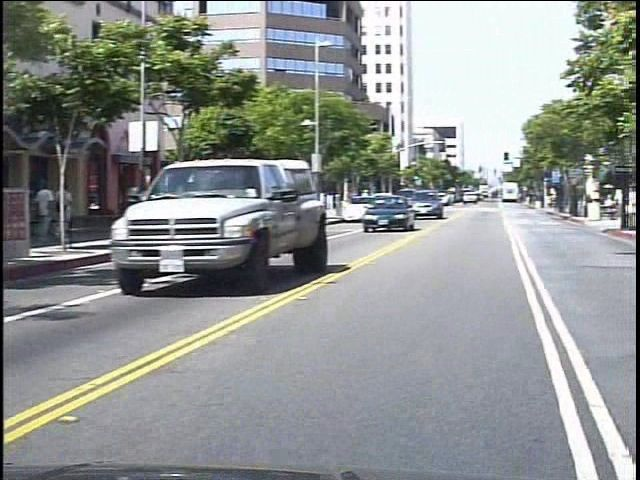person: (63, 180, 85, 244), (45, 177, 66, 241)
